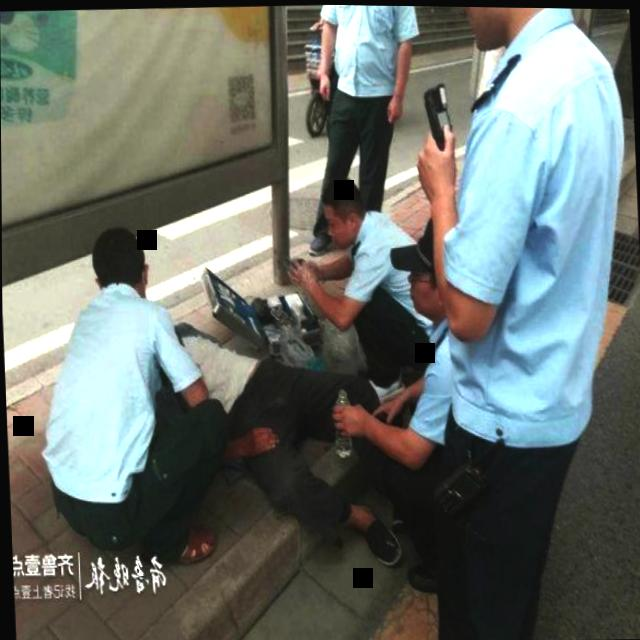Fall-Detected: (161, 293, 411, 560)
